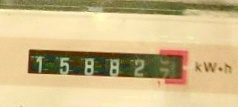1: (33, 54, 43, 72)
2: (132, 56, 145, 77)
5: (55, 55, 70, 74)
7: (156, 64, 169, 77)
8: (106, 55, 120, 77), (82, 55, 95, 75)
screen: (21, 40, 192, 88)
